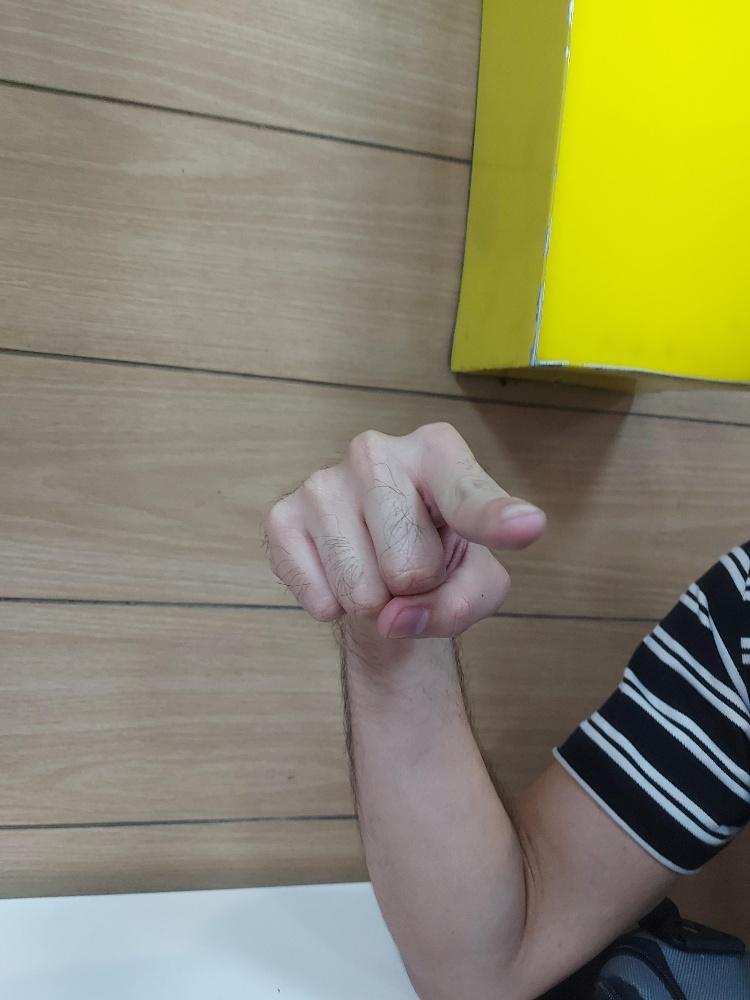z: (263, 416, 548, 643)
